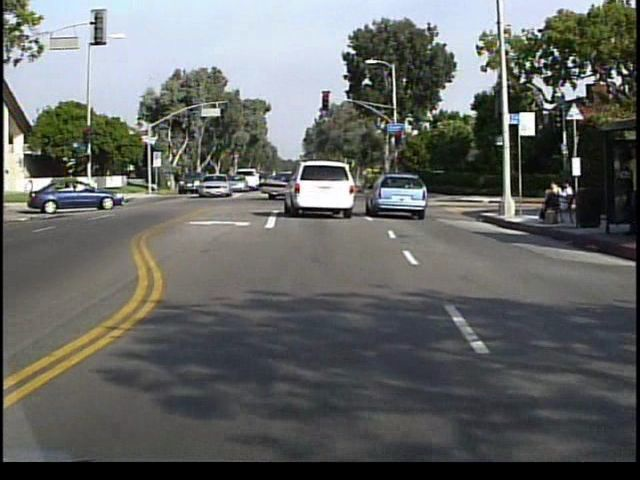person: (538, 178, 563, 222), (558, 179, 575, 224)
